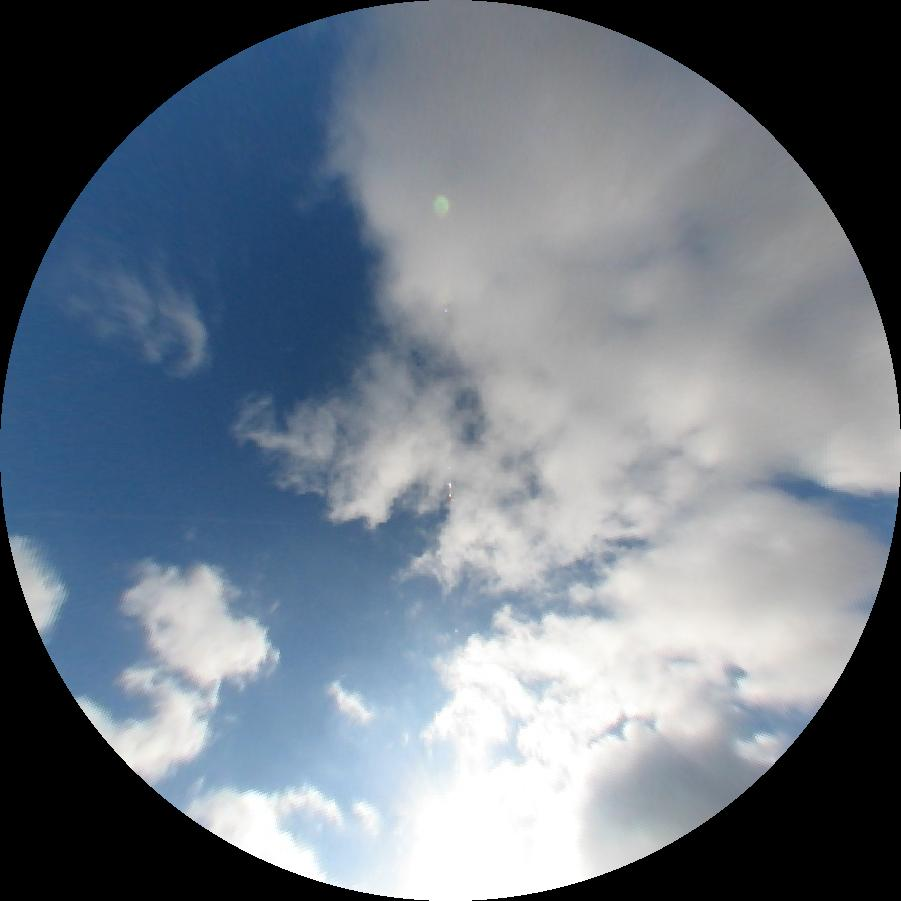parasite: (6, 511, 290, 524)
sun: (421, 791, 561, 898)
